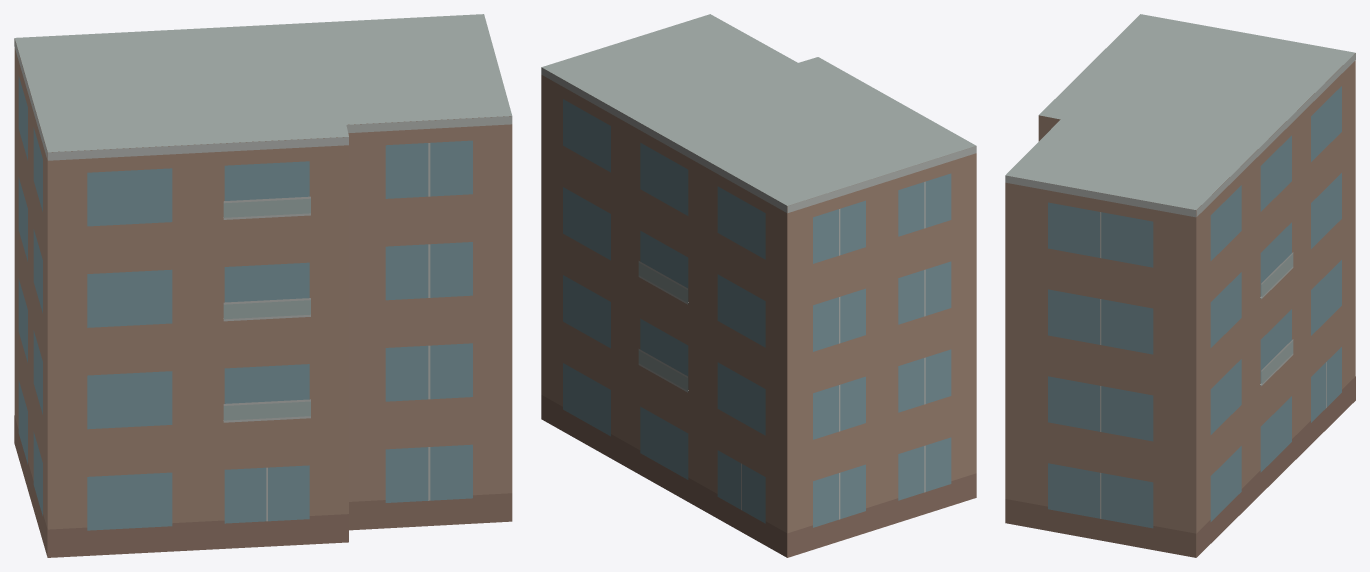
File: survey-upis-32565129.glb
3 renders of one model, left to right at view 1: azimuth 30°, elevation 25°; view 2: azimuth 150°, elevation 25°; view 3: azimuth 270°, elevation 25°, orthographic. The views are drawn at different scales.
Parts seen in each view (by area): view 1: survey-upis-32565129.tmp; view 2: survey-upis-32565129.tmp; view 3: survey-upis-32565129.tmp.
Part boxes in pixels (bbox=[...]): survey-upis-32565129.tmp: bbox=[14, 14, 512, 557]; survey-upis-32565129.tmp: bbox=[541, 14, 976, 557]; survey-upis-32565129.tmp: bbox=[1005, 14, 1355, 557].
Size of the model in its own units: 14.17 by 11.7 by 10.7.
